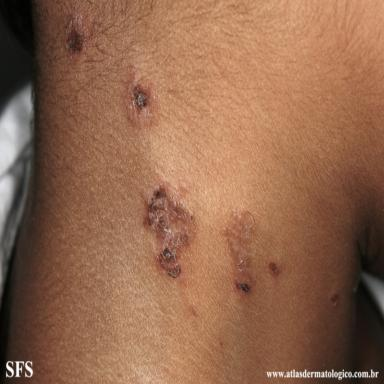Impetigo: (141, 179, 198, 281), (221, 208, 257, 296), (121, 64, 159, 129), (64, 11, 90, 62), (268, 260, 283, 281)
